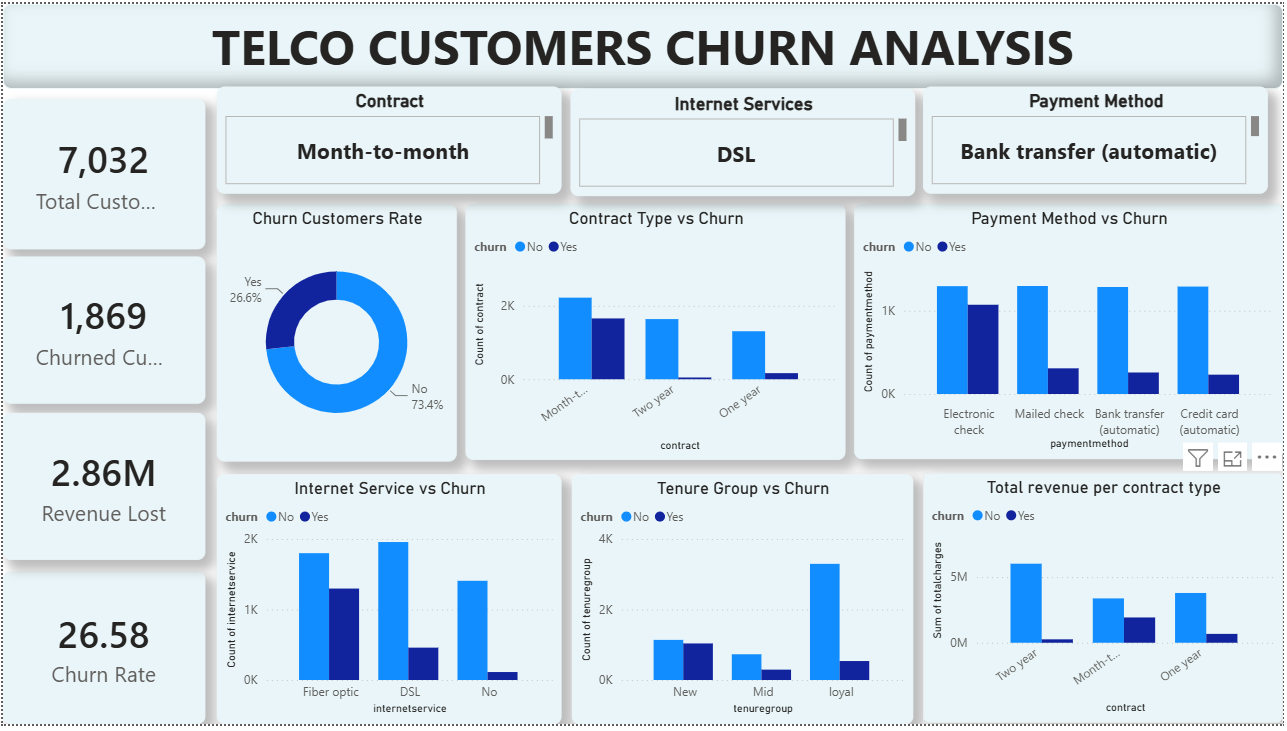

What the dashboard file says about the page in this screenshot:
{"tool":"powerbi","page":{"name":"Customer Churn Overview","canvas":[1280,720],"ordinal":0},"visuals":[{"type":"cardVisual","fields":{"Data":["cleaned_telco_churn.totalcustomers"]},"box":[0,95,202.5,150],"z":0},{"type":"cardVisual","fields":{"Data":["cleaned_telco_churn.Churned Customers"]},"box":[0,252.5,202.5,147.5],"z":1000},{"type":"cardVisual","fields":{"Data":["cleaned_telco_churn.churnedrate"]},"box":[0,567.5,202.5,152.5],"z":2000},{"type":"cardVisual","fields":{"Data":["cleaned_telco_churn.revenuelost"]},"box":[0,408.8,202.5,147.5],"z":3000},{"type":"textbox","box":[0,0,1280,85],"z":4000},{"type":"donutChart","title":"Churn Customers Rate","fields":{"Category":["cleaned_telco_churn.churn"],"Y":["CountNonNull(cleaned_telco_churn.churn)"]},"box":[213.8,200,240,257.5],"z":5000},{"type":"clusteredColumnChart","title":"Contract Type vs Churn","fields":{"Category":["cleaned_telco_churn.contract"],"Y":["CountNonNull(cleaned_telco_churn.contract)"],"Series":["cleaned_telco_churn.churn"]},"box":[462.5,200,380,256.2],"z":6000},{"type":"clusteredColumnChart","title":"Payment Method vs Churn","fields":{"Series":["cleaned_telco_churn.churn"],"Category":["cleaned_telco_churn.paymentmethod"],"Y":["CountNonNull(cleaned_telco_churn.paymentmethod)"]},"box":[851.2,200,428.8,255],"z":7000},{"type":"clusteredColumnChart","title":"Internet Service vs Churn","fields":{"Category":["cleaned_telco_churn.internetservice"],"Y":["CountNonNull(cleaned_telco_churn.internetservice)"],"Series":["cleaned_telco_churn.churn"]},"box":[213.8,470,345,250],"z":8000},{"type":"clusteredColumnChart","title":"Tenure Group vs Churn","fields":{"Category":["cleaned_telco_churn.tenuregroup"],"Series":["cleaned_telco_churn.churn"],"Y":["CountNonNull(cleaned_telco_churn.tenuregroup)"]},"box":[568.8,470,341.2,250],"z":9000},{"type":"clusteredColumnChart","title":"Total revenue per contract type","fields":{"Series":["cleaned_telco_churn.churn"],"Category":["cleaned_telco_churn.contract"],"Y":["Sum(cleaned_telco_churn.totalcharges)"]},"box":[920,468.8,360,250],"z":10000},{"type":"advancedSlicerVisual","title":"Contract","fields":{"Values":["cleaned_telco_churn.contract"]},"box":[213.8,82.5,345,107.5],"z":11000},{"type":"advancedSlicerVisual","title":"Internet Services","fields":{"Values":["cleaned_telco_churn.internetservice"]},"box":[567.5,85,345,107.5],"z":12000},{"type":"advancedSlicerVisual","title":"Payment Method","fields":{"Values":["cleaned_telco_churn.paymentmethod"]},"box":[920,82.5,345,107.5],"z":13000}]}

Visuals, with their boxes in screenshot pixels (x1, y1, x2, y2), scaled from the page's 1280x720 canvas onto the 1287x731 screenshot:
cardVisual - cleaned_telco_churn.totalcustomers: (left=0, top=96, right=204, bottom=249)
cardVisual - cleaned_telco_churn.Churned Customers: (left=0, top=256, right=204, bottom=406)
cardVisual - cleaned_telco_churn.churnedrate: (left=0, top=576, right=204, bottom=730)
cardVisual - cleaned_telco_churn.revenuelost: (left=0, top=415, right=204, bottom=565)
textbox: (left=0, top=0, right=1286, bottom=86)
"Churn Customers Rate" donutChart: (left=215, top=203, right=456, bottom=464)
"Contract Type vs Churn" clusteredColumnChart: (left=465, top=203, right=847, bottom=463)
"Payment Method vs Churn" clusteredColumnChart: (left=856, top=203, right=1286, bottom=462)
"Internet Service vs Churn" clusteredColumnChart: (left=215, top=477, right=562, bottom=730)
"Tenure Group vs Churn" clusteredColumnChart: (left=572, top=477, right=915, bottom=730)
"Total revenue per contract type" clusteredColumnChart: (left=925, top=476, right=1286, bottom=730)
"Contract" advancedSlicerVisual: (left=215, top=84, right=562, bottom=193)
"Internet Services" advancedSlicerVisual: (left=571, top=86, right=917, bottom=195)
"Payment Method" advancedSlicerVisual: (left=925, top=84, right=1272, bottom=193)
